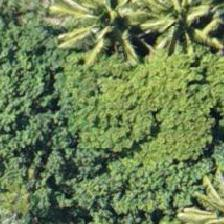coconut_tree: (21, 0, 111, 56), (36, 0, 126, 56)
